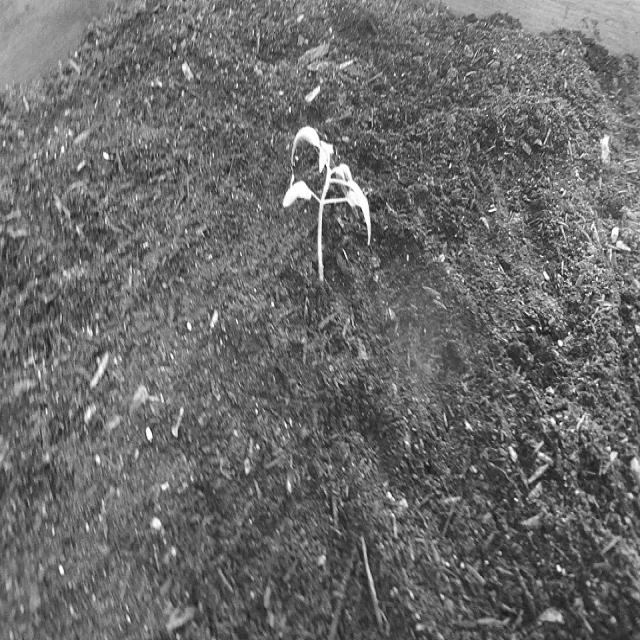Healthy: (282, 120, 376, 286)
